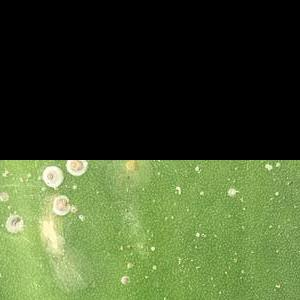Femea: (41, 168, 61, 184), (8, 214, 26, 231), (54, 195, 69, 212), (65, 160, 86, 172), (121, 275, 130, 285)
Linfa: (172, 183, 181, 196), (193, 231, 208, 238), (227, 186, 235, 197), (263, 163, 274, 171), (273, 284, 282, 290), (151, 264, 156, 270), (274, 191, 279, 196), (149, 246, 155, 250)
